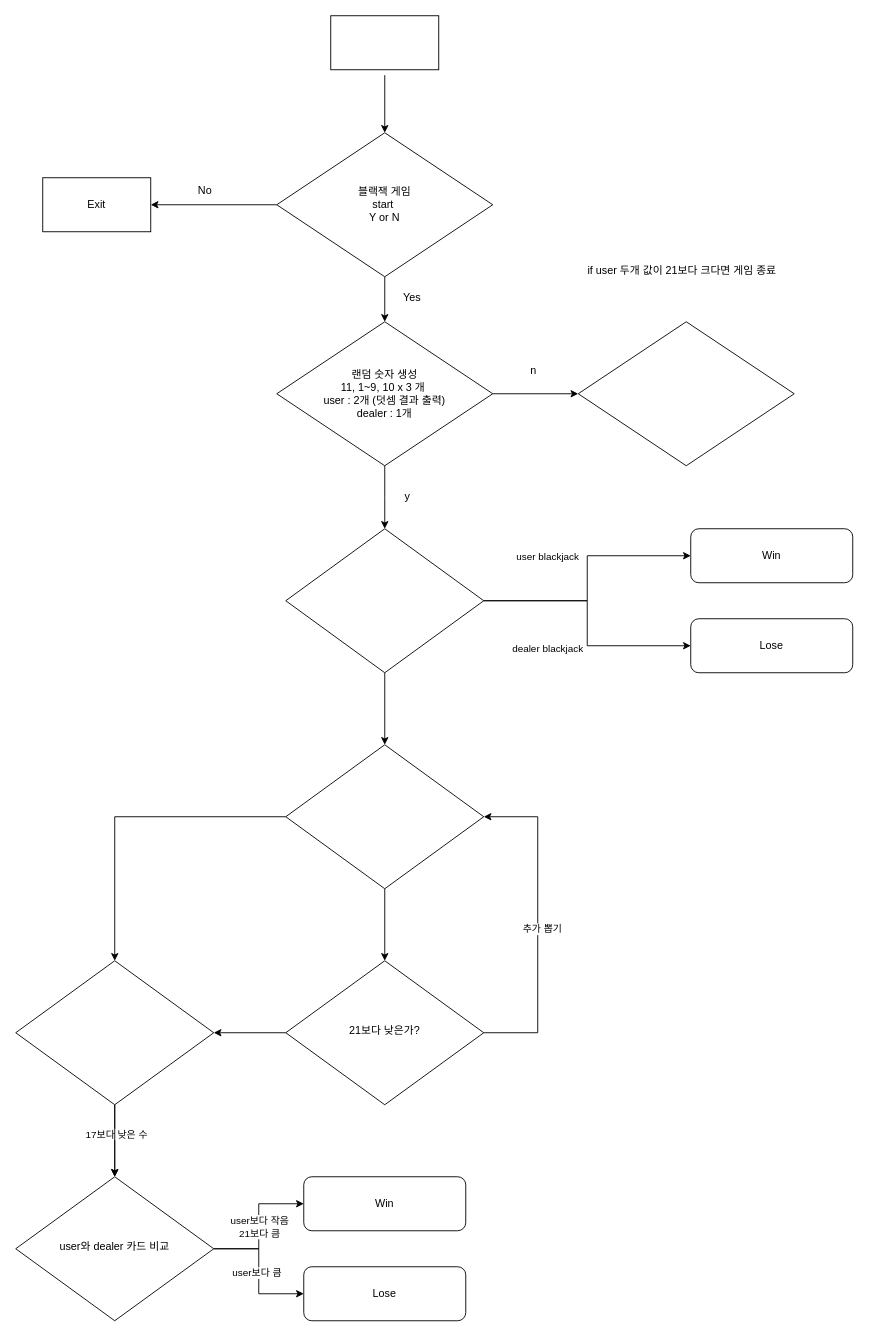
Image size: 869x1337. Some labels were removed from this diagram. The centre of each missing label's shape, as x and y in pixels:
blackjack 판별 uset & dealer (Ace + 10): point 384,600
dealer 2번째 카드 공개 17보다 낮으면 카드 뽑기: point 114,1032
pc 카드 총합 user보다 작다 = you win user보다 크다 = you lose 21보다 크다 = you win: point 685,393
Start: point 384,42
user 카드 추가 뽑기: point 384,816
